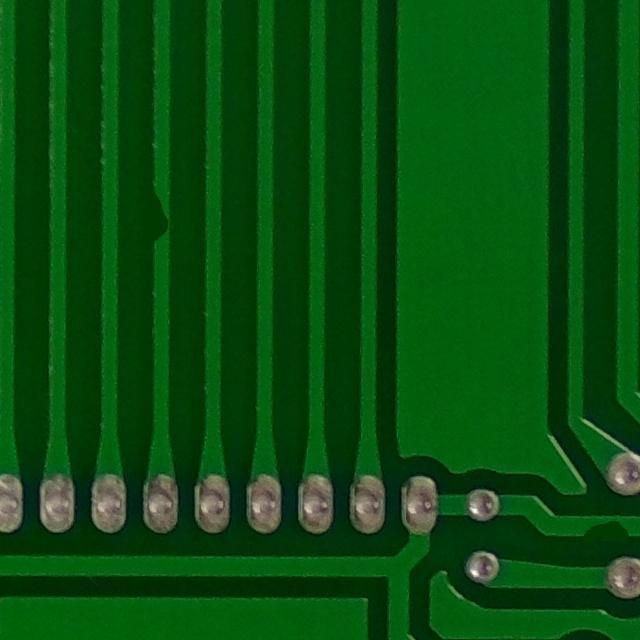mouse_bite: (131, 170, 187, 264), (566, 506, 640, 554)
